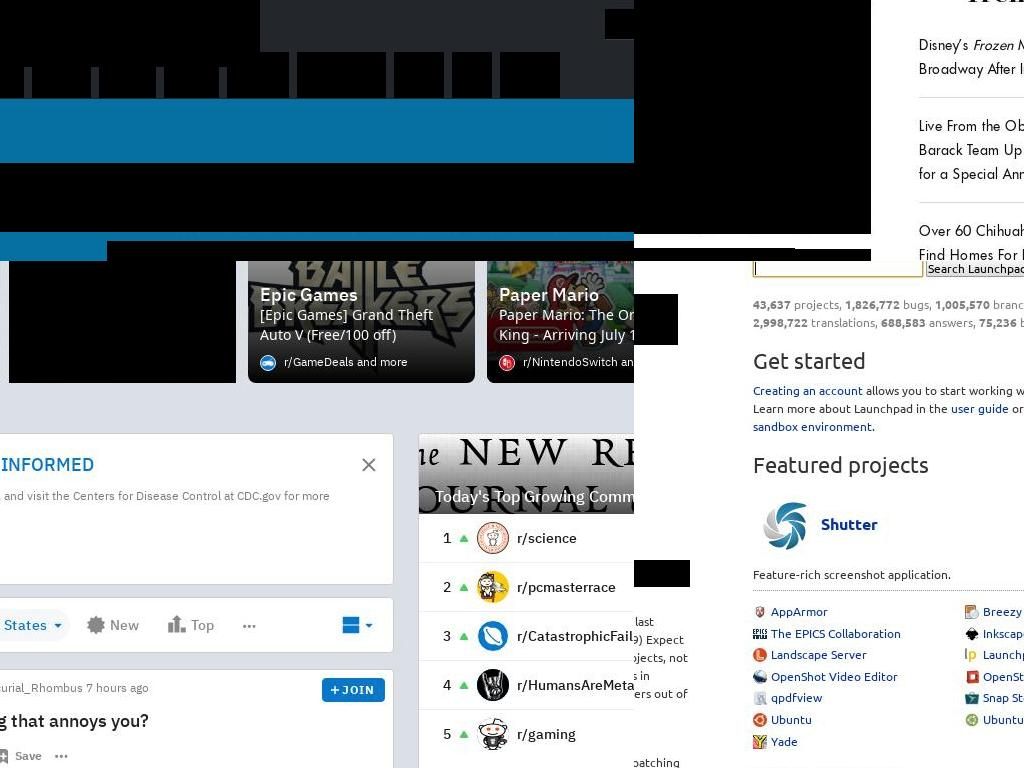button: (169, 383, 544, 561), (634, 0, 871, 234), (0, 383, 157, 561), (9, 261, 236, 383), (248, 261, 475, 383), (487, 261, 634, 383), (419, 514, 634, 562), (419, 563, 634, 611), (419, 612, 634, 660), (419, 661, 634, 709), (419, 710, 634, 758), (297, 52, 386, 98), (752, 620, 901, 646), (752, 663, 898, 689), (752, 642, 867, 668), (227, 52, 289, 98), (500, 52, 560, 98), (32, 52, 91, 98), (99, 52, 156, 98), (164, 52, 219, 98), (77, 609, 151, 641), (394, 52, 444, 98), (158, 609, 226, 641), (752, 599, 828, 624), (452, 52, 492, 98), (752, 685, 822, 711), (964, 620, 1024, 646), (964, 642, 1024, 668), (964, 663, 1024, 689), (964, 685, 1024, 711), (752, 706, 812, 732), (964, 706, 1024, 732), (322, 678, 385, 702), (752, 728, 798, 754), (0, 743, 46, 768), (0, 616, 62, 634), (0, 52, 24, 98), (964, 605, 1022, 624), (86, 680, 149, 696), (341, 615, 373, 635)
field: (752, 261, 923, 277), (925, 261, 1024, 277)
heading: (0, 163, 634, 232), (0, 0, 260, 67), (181, 462, 532, 485), (752, 348, 1024, 374), (752, 452, 1024, 478), (21, 284, 224, 307), (260, 284, 463, 307), (752, 494, 817, 558), (435, 486, 634, 506), (499, 284, 634, 307), (0, 711, 149, 731), (0, 482, 110, 505), (820, 515, 878, 534)
image: (634, 0, 871, 234), (477, 522, 509, 554), (477, 571, 509, 603), (477, 669, 509, 701), (477, 718, 509, 750), (480, 623, 504, 647), (85, 615, 106, 635), (166, 615, 187, 635), (341, 615, 361, 635), (361, 457, 377, 473), (21, 355, 35, 369), (260, 355, 274, 369), (499, 355, 513, 369), (181, 533, 195, 547), (328, 683, 342, 697), (459, 533, 469, 543), (459, 582, 469, 592), (459, 631, 469, 641), (459, 680, 469, 690), (459, 729, 469, 739)
link: (752, 420, 872, 433), (752, 384, 863, 397), (0, 680, 83, 695), (950, 402, 1009, 415), (972, 36, 1014, 54)
text: (0, 480, 377, 536), (181, 484, 532, 525), (0, 405, 394, 433), (21, 306, 224, 347), (260, 306, 463, 347), (919, 116, 1024, 184), (752, 566, 1024, 591), (499, 306, 634, 347), (919, 36, 1024, 78), (919, 221, 1024, 261), (752, 402, 951, 415), (0, 504, 110, 525), (517, 627, 634, 645), (517, 676, 634, 694), (862, 384, 1024, 397), (0, 454, 94, 476), (284, 354, 408, 370), (517, 578, 616, 596), (523, 354, 634, 370), (205, 532, 307, 548), (45, 354, 137, 370), (233, 608, 266, 642), (517, 529, 577, 547), (517, 725, 576, 743), (919, 36, 973, 54), (807, 316, 881, 329), (0, 616, 48, 634), (844, 298, 900, 311), (934, 298, 990, 311), (752, 316, 808, 329), (790, 298, 845, 311), (342, 679, 374, 701), (925, 316, 979, 329), (880, 316, 926, 329), (109, 616, 139, 634), (752, 298, 791, 311), (978, 316, 1017, 329), (899, 298, 935, 311), (989, 298, 1024, 311), (190, 616, 214, 634), (15, 748, 42, 764), (431, 529, 451, 547), (431, 578, 451, 596), (431, 627, 451, 645), (431, 676, 451, 694), (431, 725, 451, 743), (871, 420, 875, 433)
